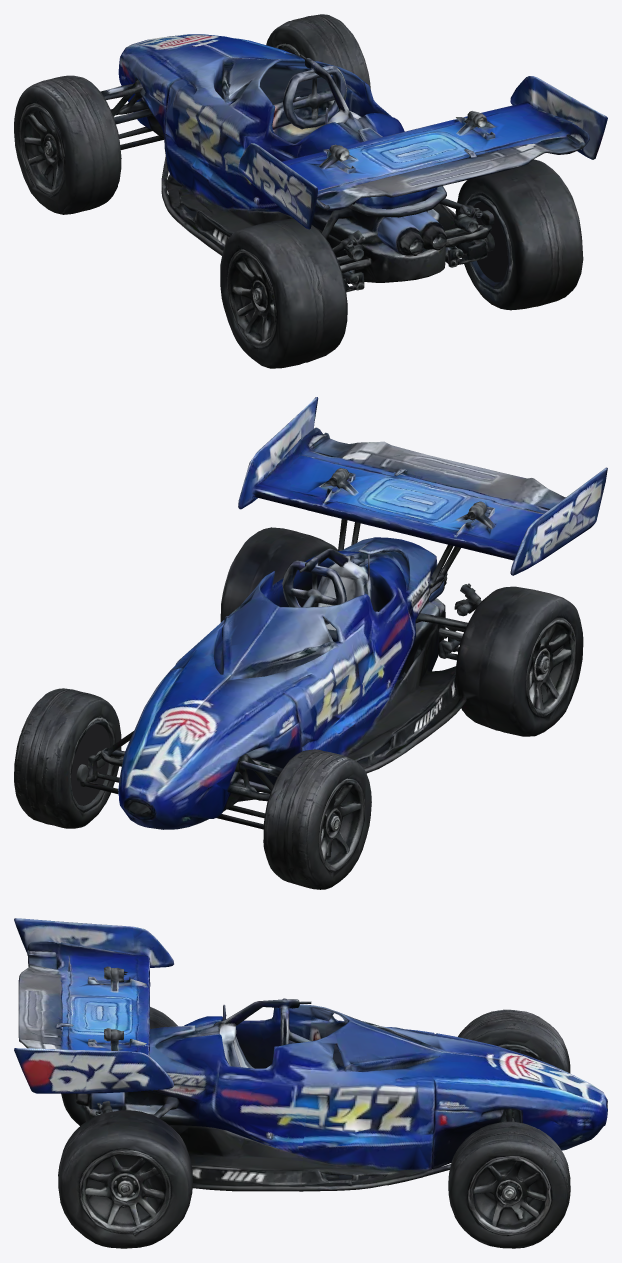
File: buggy.glb
3 views of the same model, one above another, from view 1: azimuth 30°, elevation 25°; view 2: azimuth 150°, elevation 25°; view 3: azimuth 270°, elevation 25° (orthographic). The views are drawn at different scales.
Parts seen in each view (by area): view 1: body, wheel_fl, wheel_rl, wheel_rr, wheel_fr; view 2: body, wheel_rl, wheel_fl, wheel_fr; view 3: body, wheel_rr, wheel_fr, wheel_fl.
Part boxes in pixels (x1,y1,x2,y2): body: (22,14,607,368); wheel_fl: (14,79,121,214); wheel_rl: (220,232,347,368); wheel_rr: (455,175,583,310); wheel_fr: (266,25,370,88); body: (17,397,607,841); wheel_rl: (453,602,583,736); wheel_fl: (263,755,371,889); wheel_fr: (14,699,121,828); body: (14,918,607,1227); wheel_rr: (62,1135,192,1248); wheel_fr: (448,1136,570,1248); wheel_fl: (458,1029,570,1073).
Size of the model in its own units: 2.15 by 1.51 by 4.
2 materials, 1 textured.
